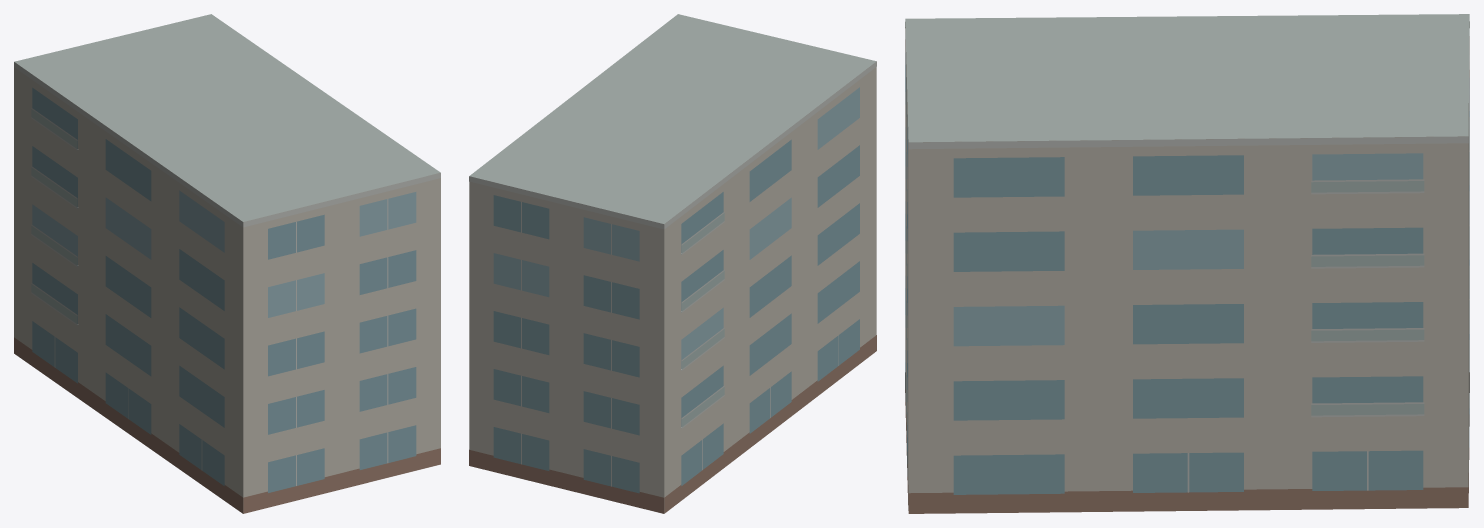
The model's file is survey-upis-32761429.glb.
3 views of the same model, side by side, from view 1: azimuth 30°, elevation 25°; view 2: azimuth 150°, elevation 25°; view 3: azimuth 270°, elevation 25° (orthographic). The views are drawn at different scales.
Visible parts, largest first — view 1: survey-upis-32761429.tmp; view 2: survey-upis-32761429.tmp; view 3: survey-upis-32761429.tmp.
Part boxes in pixels (x1,y1,x2,y2): survey-upis-32761429.tmp: [14, 14, 440, 513]; survey-upis-32761429.tmp: [469, 14, 876, 513]; survey-upis-32761429.tmp: [905, 14, 1469, 513].
Bounding box in the file's own units: 9.71 × 13.1 × 18.05.
